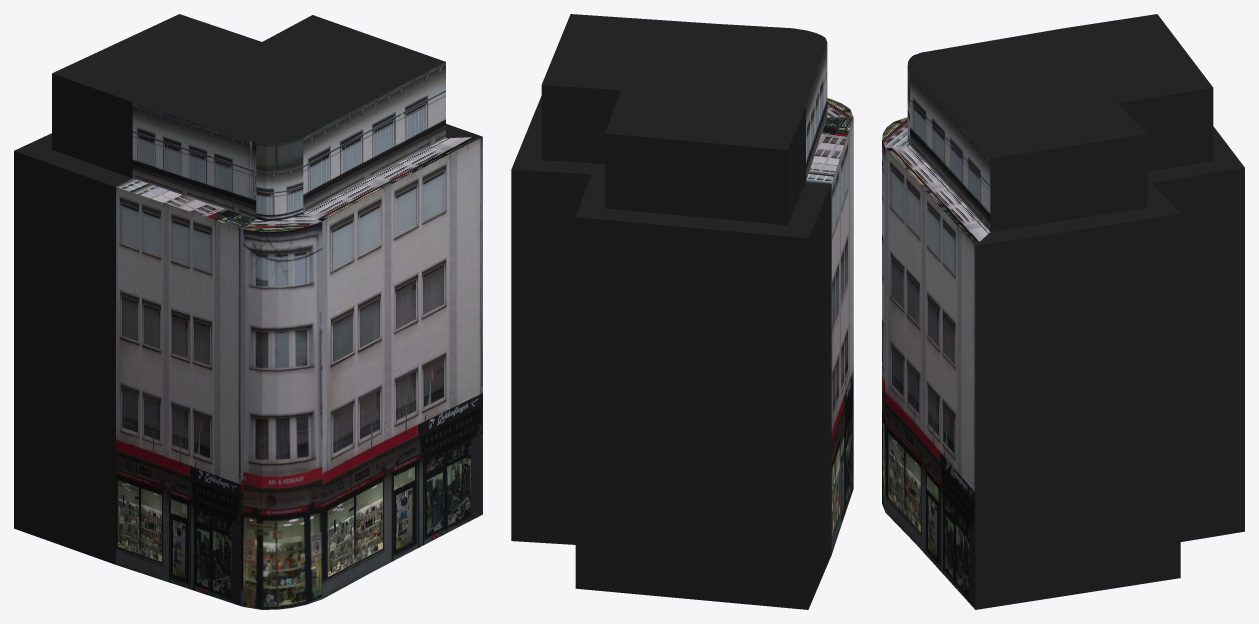
The model's file is B_Werth_09.FBX.
The picture shows the model from 3 angles, left to right: view 1: azimuth 30°, elevation 25°; view 2: azimuth 150°, elevation 25°; view 3: azimuth 270°, elevation 25°; orthographic projection. The views are drawn at different scales.
Parts seen in each view (by area): view 1: B_Werth_09, B_Werth_09_Front, B_Werth_09_side, B_Werth_09_corner; view 2: B_Werth_09, B_Werth_09_side; view 3: B_Werth_09, B_Werth_09_Front, B_Werth_09_corner.
Boxes of the visible parts, left/top/right/bottom form: B_Werth_09: left=14, top=14, right=481, bottom=564; B_Werth_09_Front: left=303, top=62, right=482, bottom=598; B_Werth_09_side: left=116, top=102, right=256, bottom=606; B_Werth_09_corner: left=243, top=137, right=322, bottom=609; B_Werth_09: left=511, top=14, right=831, bottom=609; B_Werth_09_side: left=806, top=43, right=853, bottom=554; B_Werth_09: left=907, top=14, right=1244, bottom=609; B_Werth_09_Front: left=885, top=72, right=990, bottom=609; B_Werth_09_corner: left=882, top=66, right=909, bottom=511.
Bounding box in the file's own units: 1266 × 1500 × 1126.
3 materials, 2 textured.
